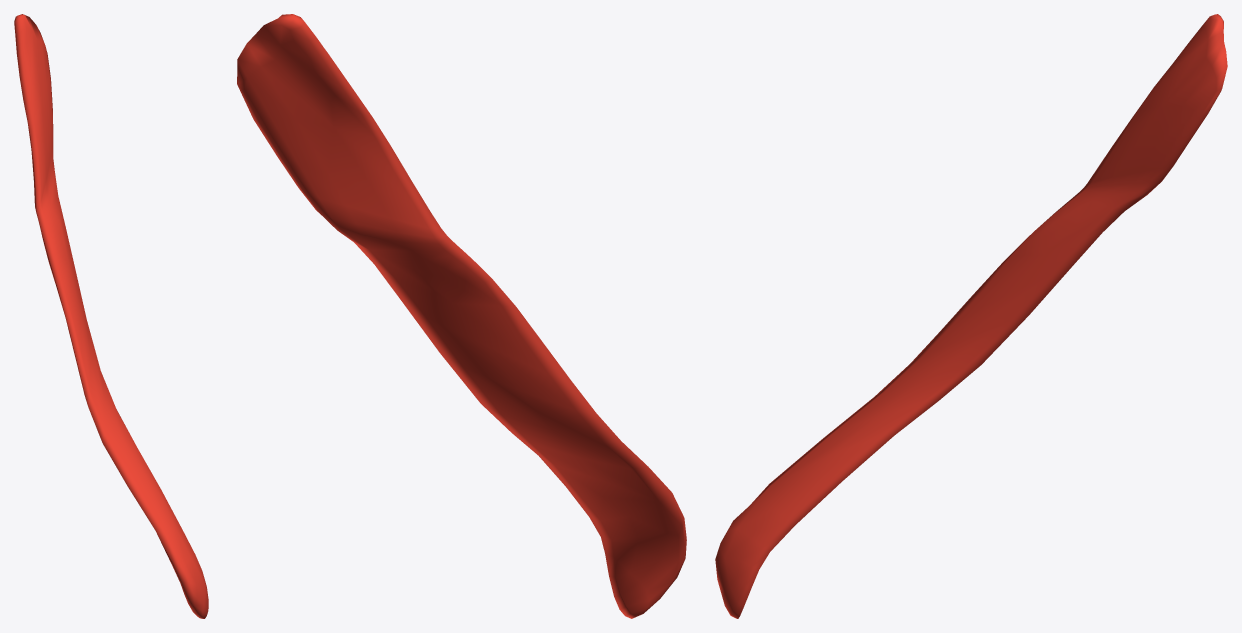
The model's file is Nasalis_muscle_on_nasal_bone.l_Generated_Mesh_From_X3D.958.glb.
3 renders of one model, left to right at view 1: azimuth 30°, elevation 25°; view 2: azimuth 150°, elevation 25°; view 3: azimuth 270°, elevation 25°, orthographic. The views are drawn at different scales.
Visible parts, largest first — view 1: Nasalis_muscle_on_nasal_bone.l_Generated_Mesh_From_X3D.958; view 2: Nasalis_muscle_on_nasal_bone.l_Generated_Mesh_From_X3D.958; view 3: Nasalis_muscle_on_nasal_bone.l_Generated_Mesh_From_X3D.958.
Boxes of the visible parts, x1=… form: Nasalis_muscle_on_nasal_bone.l_Generated_Mesh_From_X3D.958: x1=14, y1=14, x2=208, y2=618; Nasalis_muscle_on_nasal_bone.l_Generated_Mesh_From_X3D.958: x1=237, y1=14, x2=686, y2=618; Nasalis_muscle_on_nasal_bone.l_Generated_Mesh_From_X3D.958: x1=715, y1=14, x2=1227, y2=618.
Size of the model in its own units: 0.00383 by 0.0221 by 0.0169.
